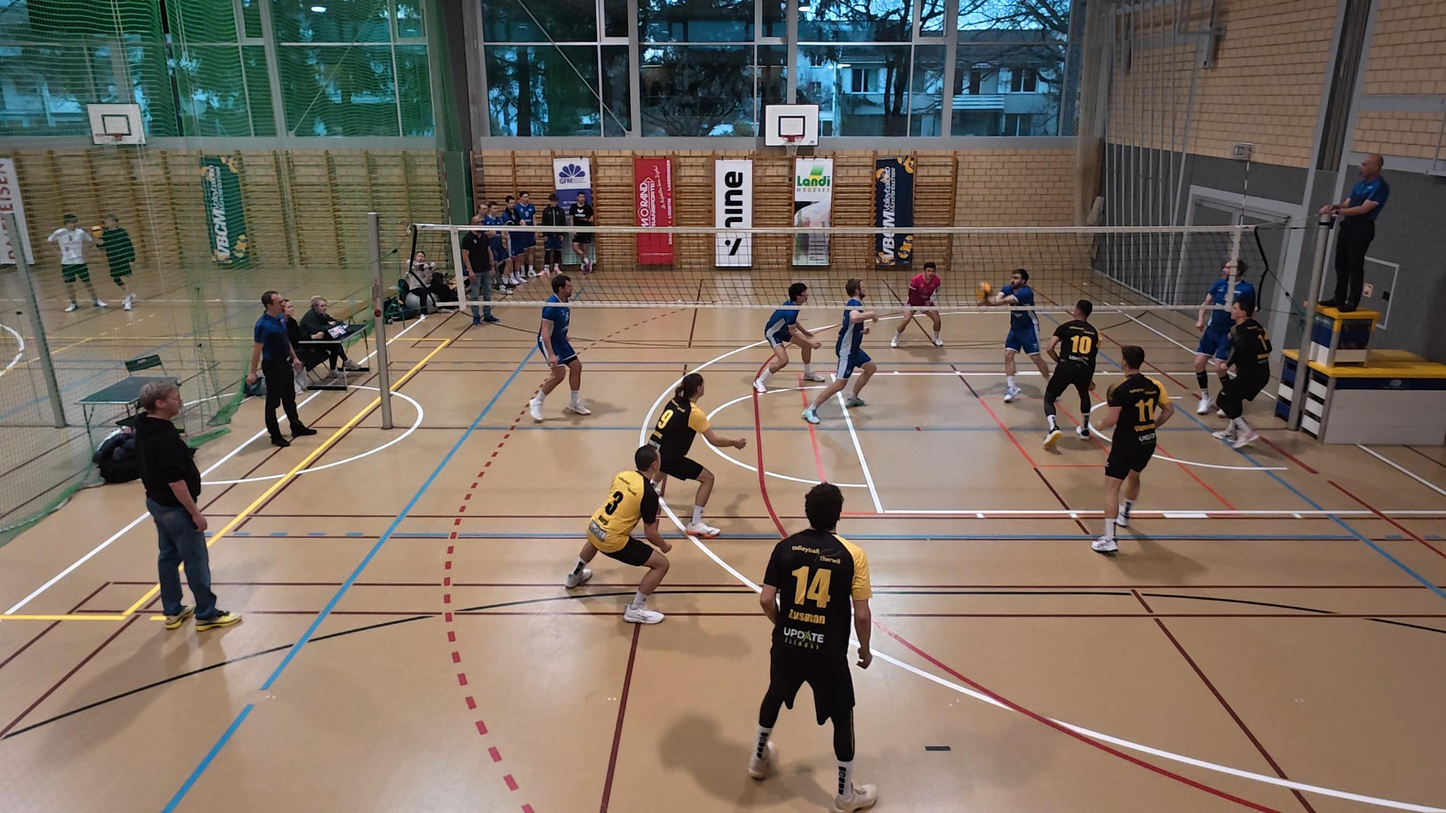Dig: (978, 269, 1048, 402)
Player: (749, 483, 876, 812), (566, 446, 674, 625), (644, 374, 746, 537), (1091, 346, 1169, 553), (802, 279, 874, 424), (1039, 299, 1106, 451), (1209, 291, 1272, 448), (526, 274, 592, 423), (1191, 259, 1247, 416), (752, 282, 826, 391), (890, 262, 945, 348)
ball: (976, 279, 997, 299)
